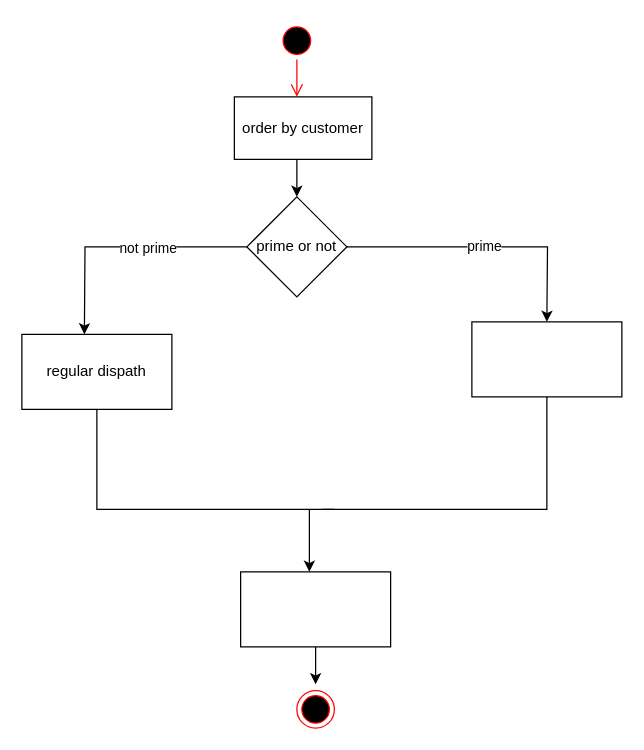
The diagram is 644 pixels wide and 750 high, and some of its shapes have lost their labels. The box of each missing label's shape, as (x1, y1, x2, y2) in pixels:
billing and invoice generation: (239, 571, 391, 647)
prime dispatch: (471, 321, 622, 397)
